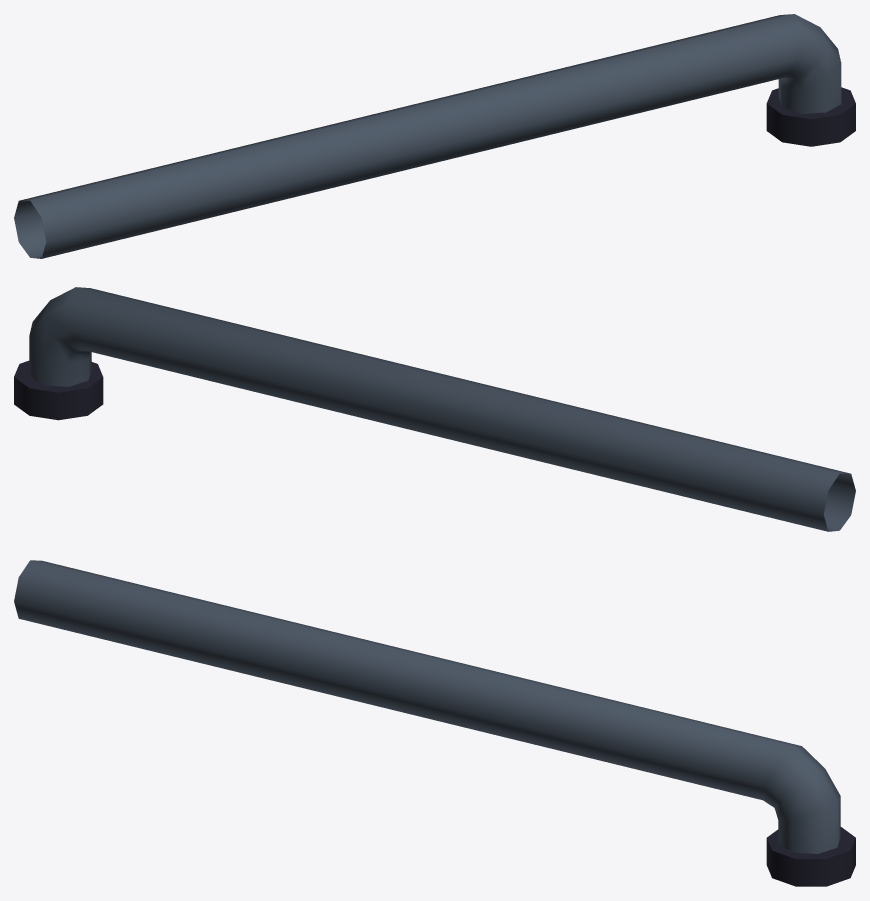
The model's file is Pipe_1_A_2_3.fbx.
3 views of the same model, one above another, from view 1: azimuth 30°, elevation 25°; view 2: azimuth 150°, elevation 25°; view 3: azimuth 330°, elevation 25° (orthographic).
Parts seen in each view (by area): view 1: Pipe_1_A_2_3; view 2: Pipe_1_A_2_3; view 3: Pipe_1_A_2_3.
Boxes of the visible parts, bbox=[...] form: Pipe_1_A_2_3: bbox=[14, 14, 855, 258]; Pipe_1_A_2_3: bbox=[14, 287, 855, 531]; Pipe_1_A_2_3: bbox=[14, 560, 855, 886].
Size of the model in its own units: 320 by 43.92 by 30.12.
